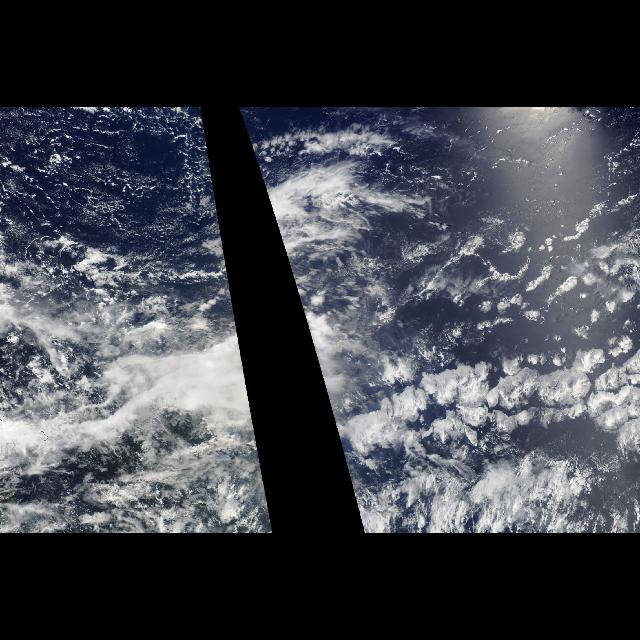Flower: (322, 241, 640, 481)
Gravel: (4, 111, 200, 259)
